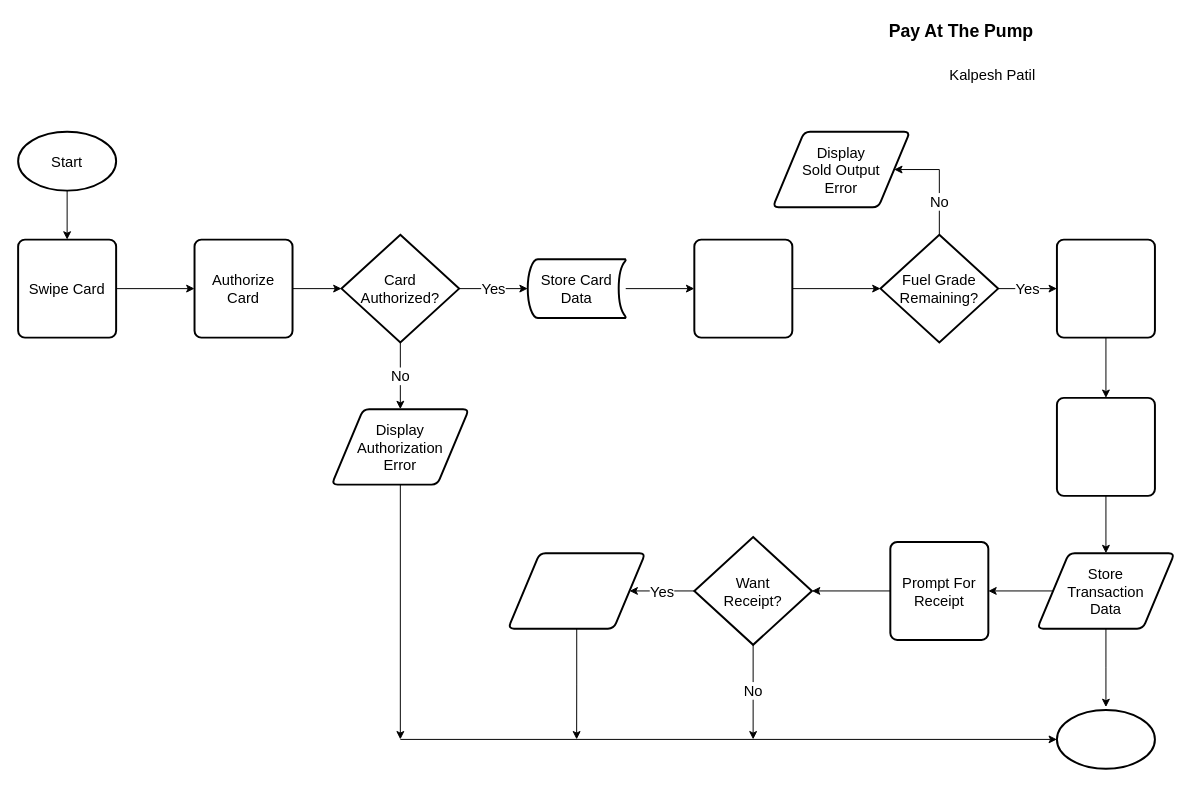
This 1192x786 diagram has some shape labels left out. Each missing label, with the centre of its shape:
End: [1105,739]
Finalize Transaction: [1105,446]
Print Receipt: [576,590]
Pump Gas: [1105,288]
Select Fuel Grade: [743,288]
